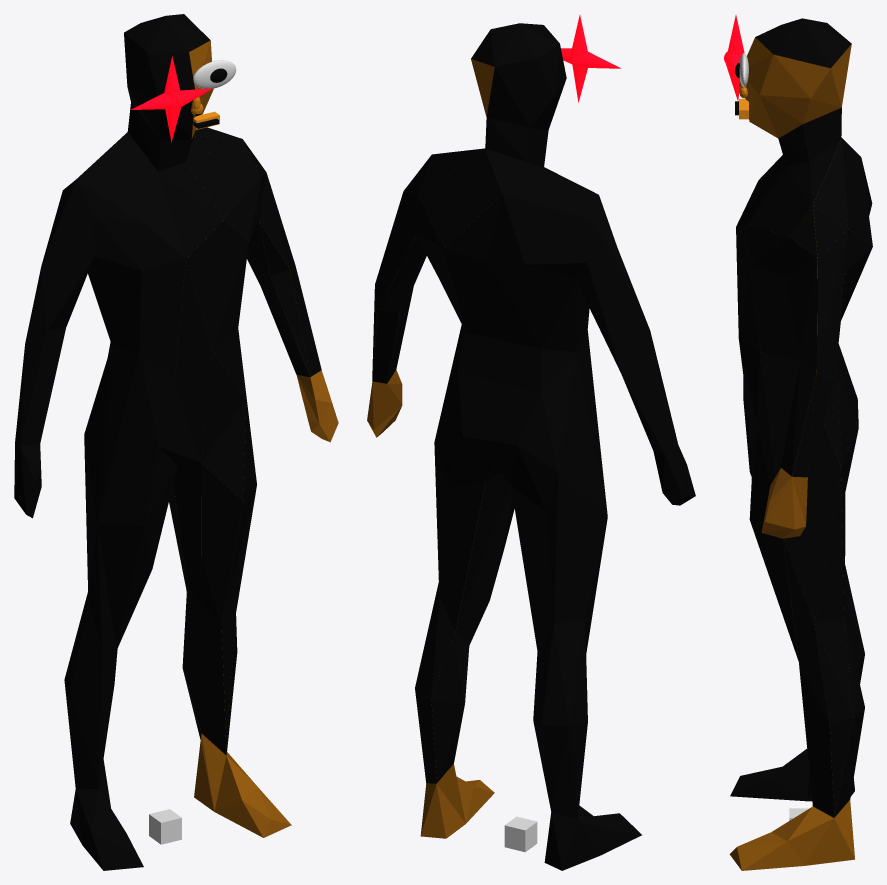
Rendered from BETTER_MODELjoe-3d.glb.
3 views of the same model, side by side, from view 1: azimuth 30°, elevation 25°; view 2: azimuth 150°, elevation 25°; view 3: azimuth 270°, elevation 25° (orthographic).
Parts seen in each view (by area): view 1: low poly guy.001, low poly guy.002, low poly guy, Cube.002, Sphere; view 2: low poly guy.001, low poly guy.002, low poly guy, Cube.002; view 3: low poly guy.001, low poly guy.002, low poly guy, Cone.002.
Boxes of the visible parts, x1,y1,x2,y2 form: low poly guy.001: (15,103,321,523); low poly guy.002: (64,400,256,789); low poly guy: (14,14,338,870); Cube.002: (149,809,181,844); Sphere: (193,60,236,88); low poly guy.001: (372,118,677,516); low poly guy.002: (415,436,607,819); low poly guy: (367,23,695,870); Cube.002: (504,816,537,852); low poly guy.001: (736,107,872,508); low poly guy.002: (743,400,864,817); low poly guy: (729,18,854,870); Cone.002: (727,15,744,56).
Size of the model in its own units: 73 by 182 by 30.15.
